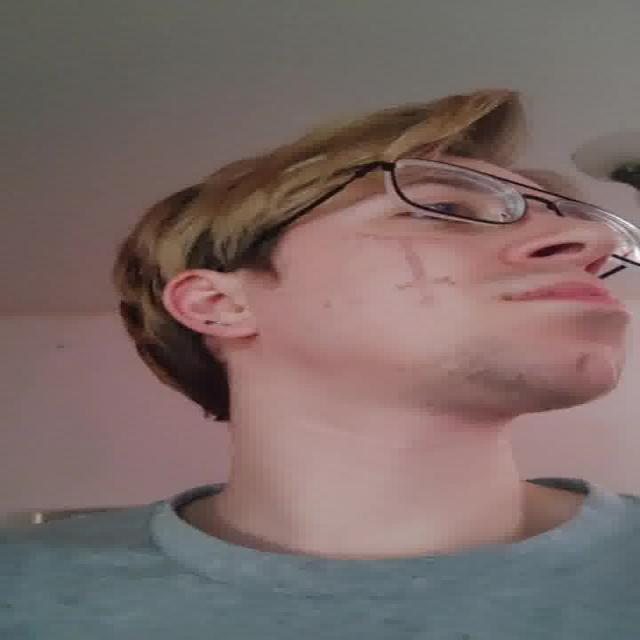earlobe: (203, 321, 261, 341)
eye: (392, 202, 472, 223)
nose: (524, 254, 608, 285)
wholeear: (162, 269, 264, 341)
